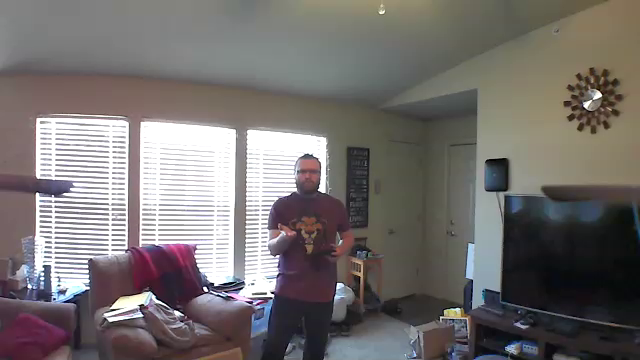land: (273, 219, 300, 239)
